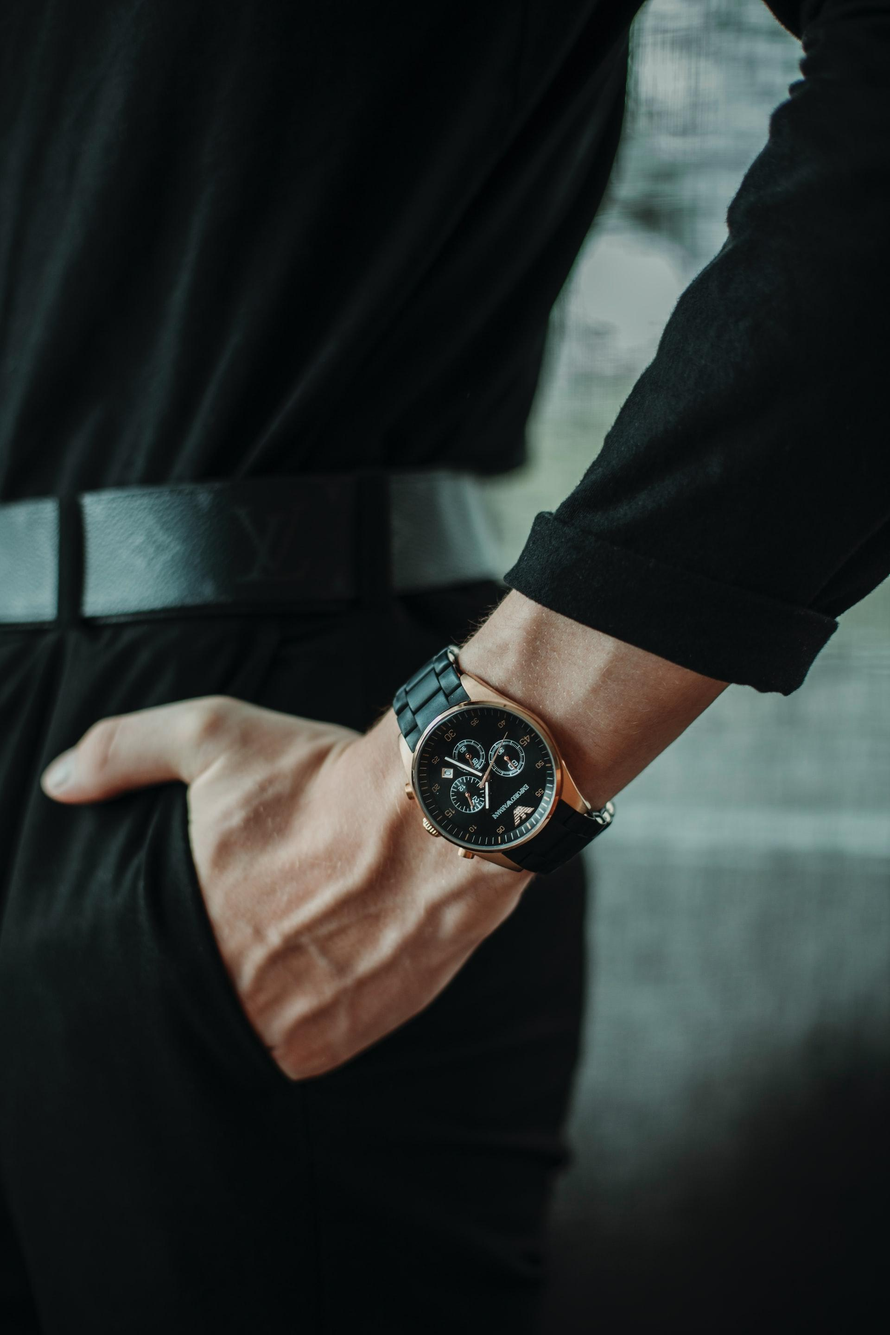watch: (387, 634, 624, 907)
